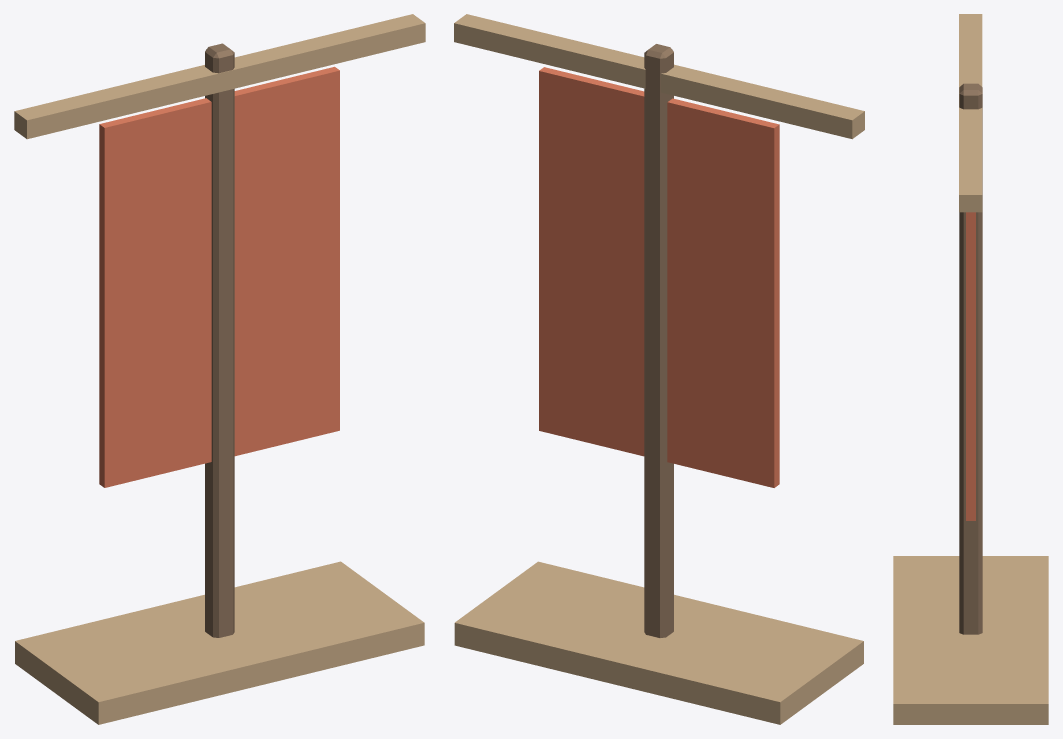
The model's file is feudal-japan-castle-town-clothes-stand-d78c13d3__26471.glb.
3 renders of one model, left to right at view 1: azimuth 30°, elevation 25°; view 2: azimuth 150°, elevation 25°; view 3: azimuth 270°, elevation 25°, orthographic. The views are drawn at different scales.
Parts seen in each view (by area): view 1: clothes-stand; view 2: clothes-stand; view 3: clothes-stand.
Boxes of the visible parts, x1=… form: clothes-stand: x1=14, y1=14, x2=425, y2=724; clothes-stand: x1=454, y1=14, x2=864, y2=724; clothes-stand: x1=893, y1=14, x2=1048, y2=724.
Bounding box in the file's own units: 1.1 × 1.6 × 0.4.
